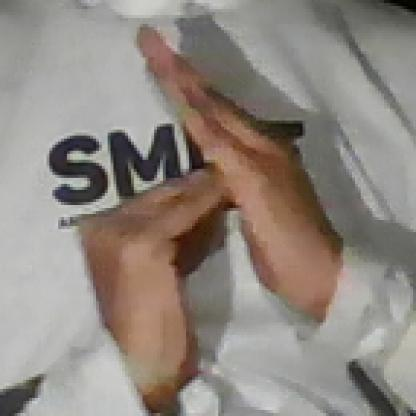Z: (68, 10, 312, 355)
